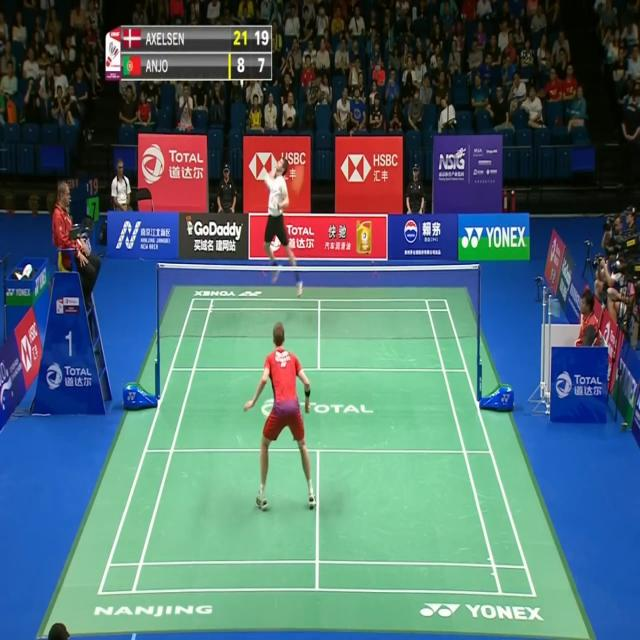Player1: (242, 314, 318, 516)
Player2: (262, 152, 308, 299)
